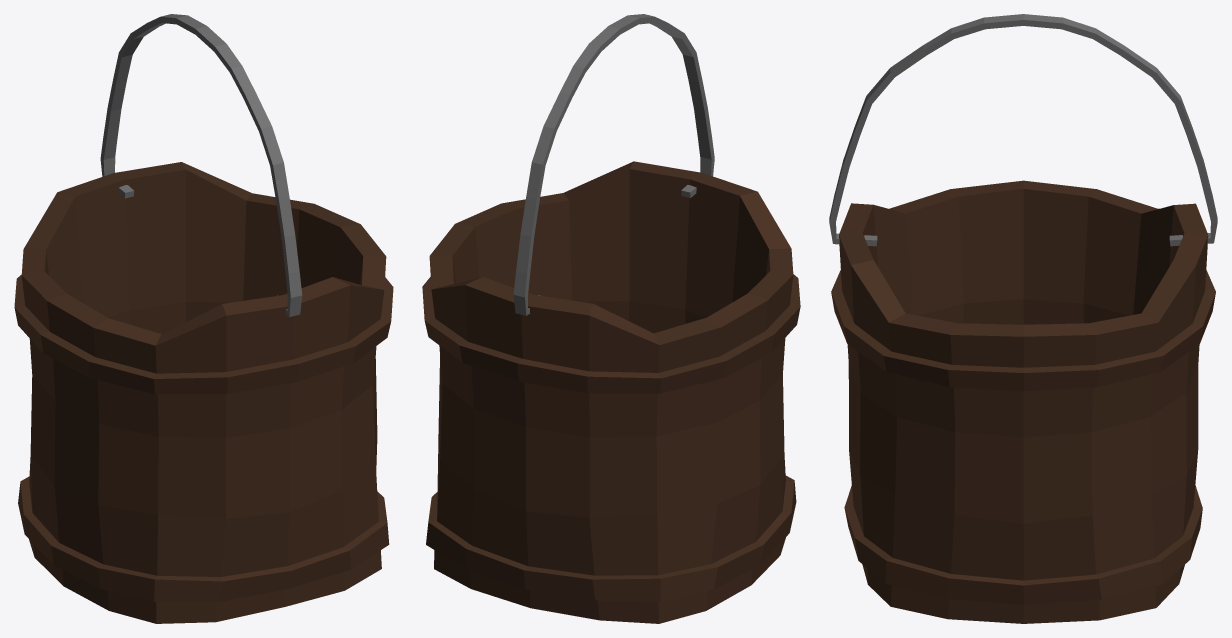
The model's file is Balde.fbx.
3 renders of one model, left to right at view 1: azimuth 30°, elevation 25°; view 2: azimuth 150°, elevation 25°; view 3: azimuth 270°, elevation 25°, orthographic. The views are drawn at different scales.
Visible parts, largest first — view 1: Balde, ferro; view 2: Balde, ferro; view 3: Balde, ferro.
Part boxes in pixels (x1,y1,x2,y2): Balde: [14, 162, 393, 623]; ferro: [100, 14, 302, 316]; Balde: [422, 161, 800, 623]; ferro: [513, 14, 714, 315]; Balde: [831, 180, 1215, 623]; ferro: [829, 14, 1217, 246].
Size of the model in its own units: 35.54 by 54.64 by 35.83.
